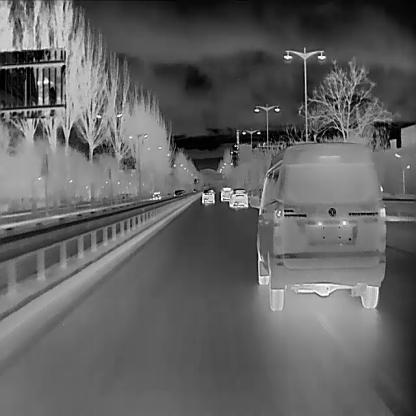car: (247, 140, 387, 310), (227, 186, 248, 206), (220, 184, 233, 202), (201, 188, 214, 204), (150, 189, 160, 199), (173, 187, 183, 197), (191, 186, 196, 191)
